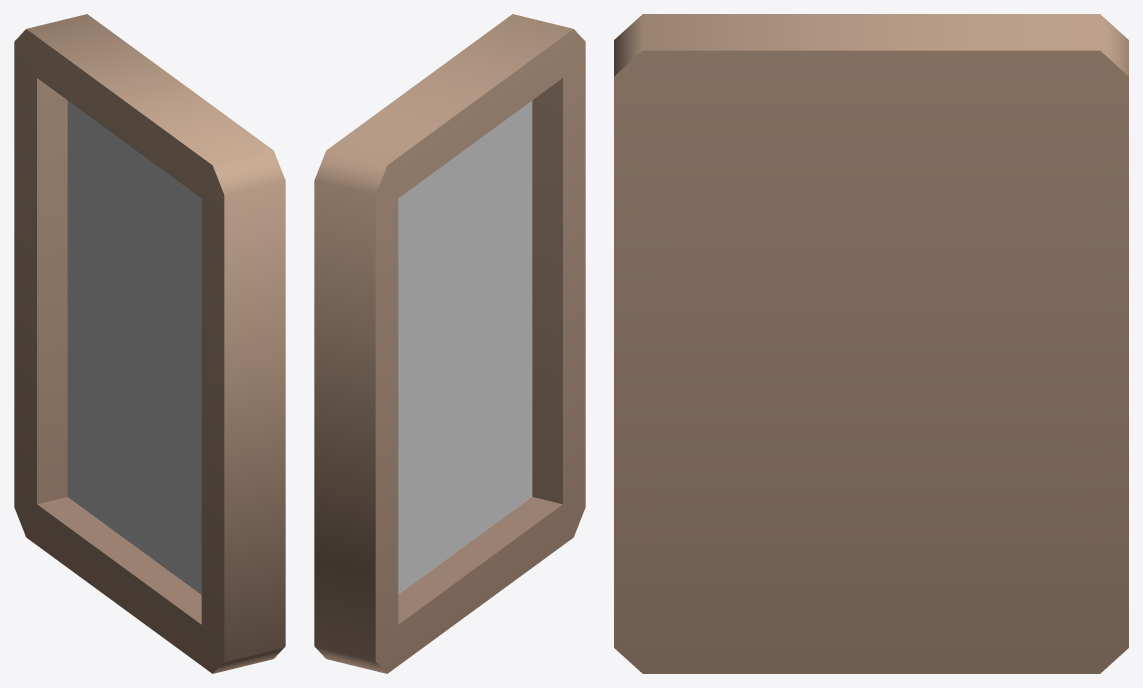
File: art-frame-thin-portrait-small (%wall).glb
3 renders of one model, left to right at view 1: azimuth 30°, elevation 25°; view 2: azimuth 150°, elevation 25°; view 3: azimuth 270°, elevation 25°, orthographic. The views are drawn at different scales.
Visible parts, largest first — view 1: art-frame-thin-portrait-small (%wall); view 2: art-frame-thin-portrait-small (%wall); view 3: art-frame-thin-portrait-small (%wall).
Part boxes in pixels (box(x1,y1,x2,y2)): art-frame-thin-portrait-small (%wall): box(14, 14, 285, 673); art-frame-thin-portrait-small (%wall): box(314, 14, 585, 673); art-frame-thin-portrait-small (%wall): box(614, 14, 1128, 673).
Size of the model in its own units: 0.075 by 0.5965 by 0.4465.
